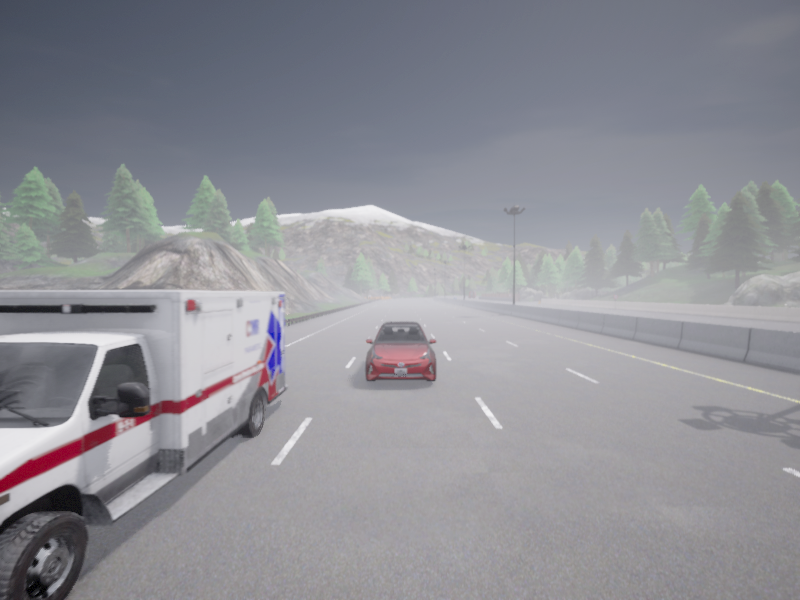vehicle: (0, 290, 288, 599), (365, 321, 436, 381), (469, 291, 476, 298), (453, 296, 456, 298)
